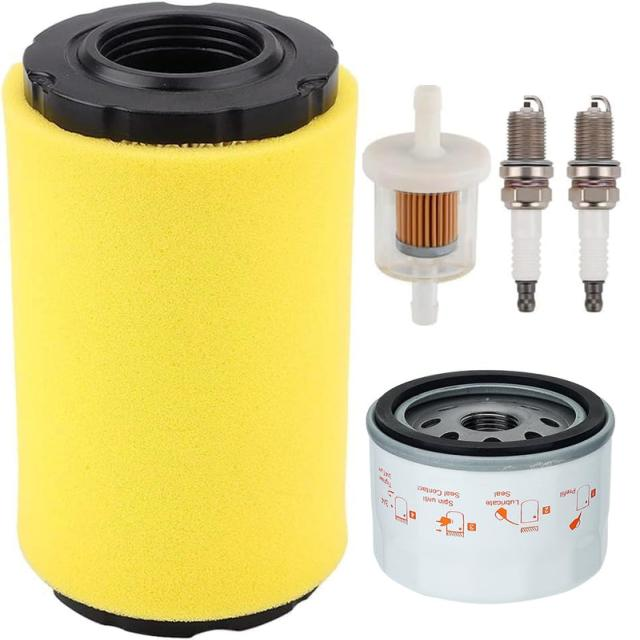oil_filter: (0, 0, 361, 640), (359, 366, 623, 608), (393, 187, 463, 258)
